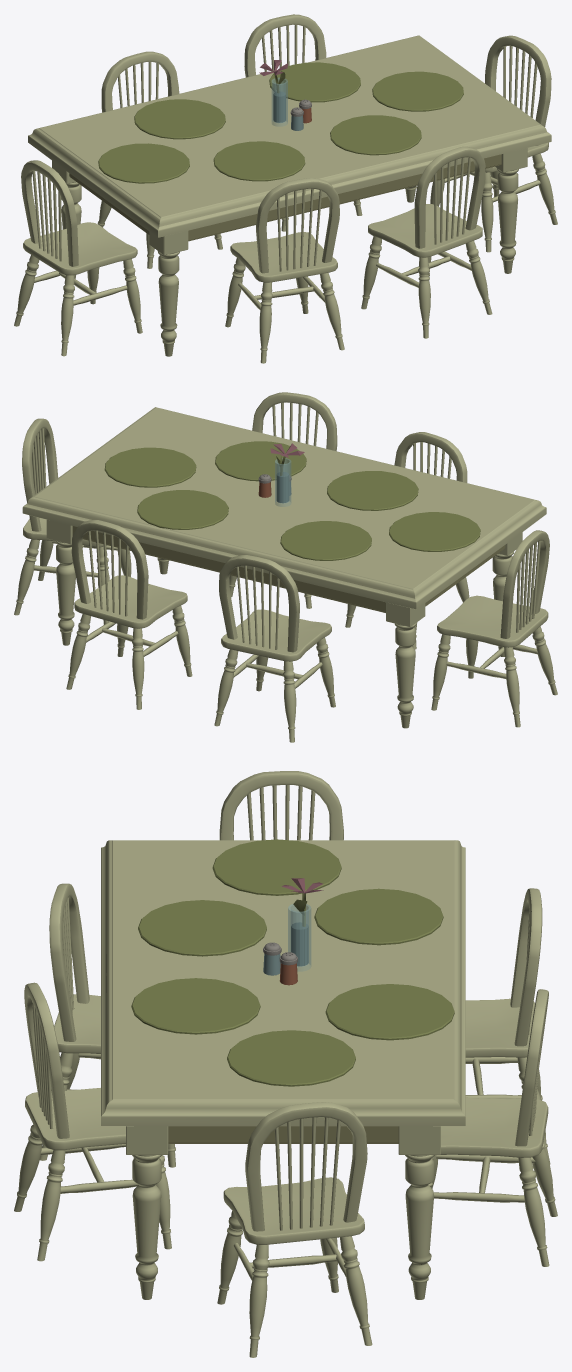
The model's file is DiningTable.fbx.
3 views of the same model, one above another, from view 1: azimuth 30°, elevation 25°; view 2: azimuth 150°, elevation 25°; view 3: azimuth 270°, elevation 25° (orthographic). The views are drawn at different scales.
Parts seen in each view (by area): view 1: Dining_Table, DiningChair3, DiningChair4, DiningChair5, DiningChair6, Placemat3, Placemat1, Placemat2, Placemat6, Placemat4, Placemat5, DiningChair2 (+2 smaller); view 2: Dining_Table, DiningChair1, DiningChair3, DiningChair2, DiningChair6, Placemat6, Placemat1, Placemat5, Placemat3, Placemat2, Placemat4, DiningChair5 (+2 smaller); view 3: Dining_Table, DiningChair6, DiningChair5, DiningChair1, DiningChair2, DiningChair4, Placemat5, Placemat2, Placemat4, Placemat3, Placemat6, Placemat1 (+2 smaller).
Part boxes in pixels (x1,y1,x2,y2): Dining_Table: [28, 35, 551, 356]; DiningChair3: [14, 160, 142, 356]; DiningChair4: [225, 178, 344, 363]; DiningChair5: [361, 146, 492, 338]; DiningChair6: [430, 35, 557, 252]; Placemat3: [213, 141, 305, 181]; Placemat1: [98, 143, 189, 183]; Placemat2: [134, 99, 225, 139]; Placemat6: [372, 71, 463, 111]; Placemat4: [330, 115, 421, 155]; Placemat5: [269, 62, 360, 102]; DiningChair2: [97, 51, 222, 268]; Dining_Table: [22, 407, 546, 728]; DiningChair1: [66, 520, 192, 709]; DiningChair3: [431, 530, 557, 727]; DiningChair2: [214, 555, 335, 742]; DiningChair6: [14, 418, 131, 624]; Placemat6: [104, 447, 196, 487]; Placemat1: [389, 512, 480, 551]; Placemat5: [137, 490, 228, 529]; Placemat3: [327, 471, 418, 510]; Placemat2: [280, 521, 371, 560]; Placemat4: [215, 441, 306, 481]; DiningChair5: [229, 392, 337, 608]; Dining_Table: [101, 840, 465, 1299]; DiningChair6: [217, 1102, 372, 1357]; DiningChair5: [14, 982, 171, 1261]; DiningChair1: [428, 989, 557, 1266]; DiningChair2: [465, 888, 550, 1164]; DiningChair4: [40, 883, 175, 1167]; Placemat5: [325, 984, 454, 1040]; Placemat2: [314, 888, 443, 945]; Placemat4: [131, 978, 260, 1034]; Placemat3: [138, 900, 266, 956]; Placemat6: [227, 1030, 355, 1086]; Placemat1: [212, 839, 341, 895].
Size of the model in its own units: 426 by 166 by 279.
